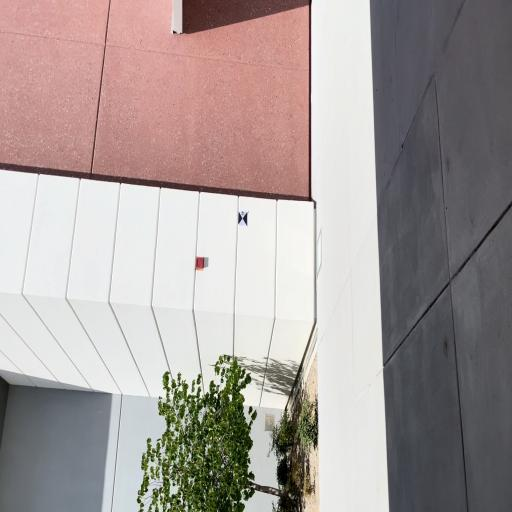target9: (238, 210, 248, 225)
